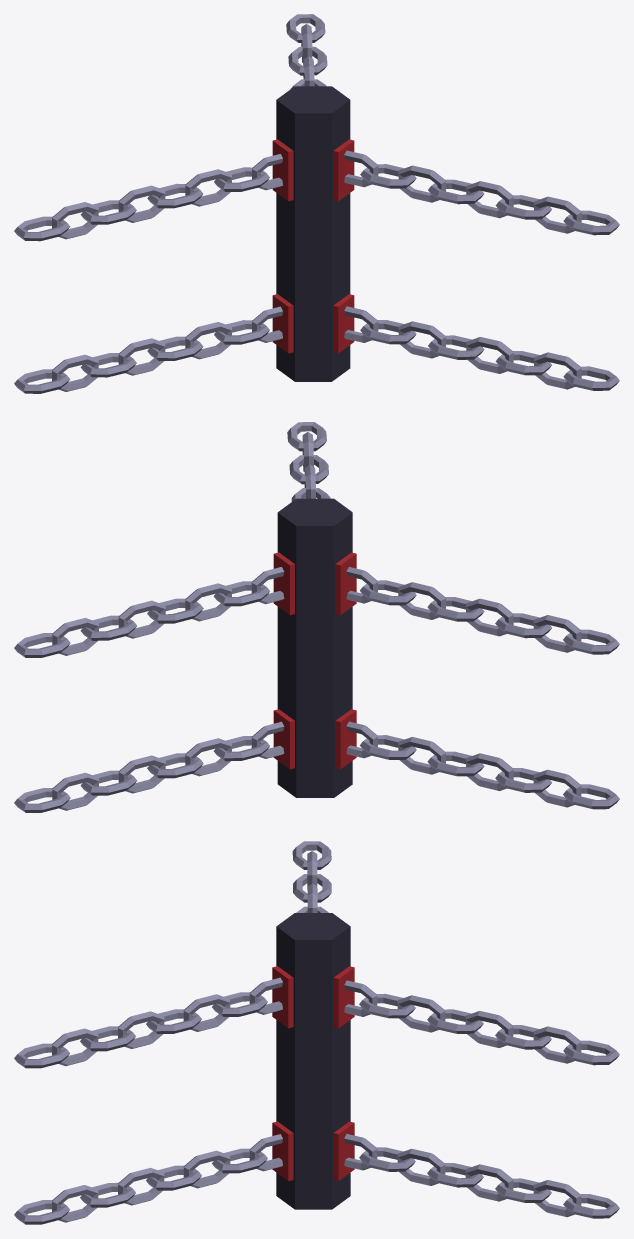
The model's file is Chain_obstacle.fbx.
3 views of the same model, one above another, from view 1: azimuth 30°, elevation 25°; view 2: azimuth 150°, elevation 25°; view 3: azimuth 270°, elevation 25° (orthographic).
Visible parts, largest first — view 1: Cylinder.006; view 2: Cylinder.006; view 3: Cylinder.006.
Part boxes in pixels (x1=…): Cylinder.006: x1=14, y1=14, x2=619, y2=393; Cylinder.006: x1=14, y1=422, x2=619, y2=812; Cylinder.006: x1=14, y1=841, x2=619, y2=1224.
Bounding box in the file's own units: 179 × 100 × 205.
